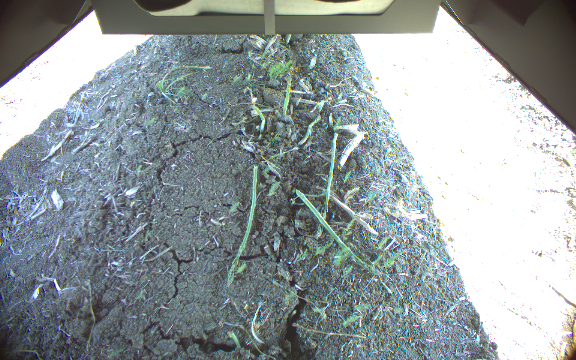aspa: (249, 103, 267, 140), (280, 75, 295, 119)
